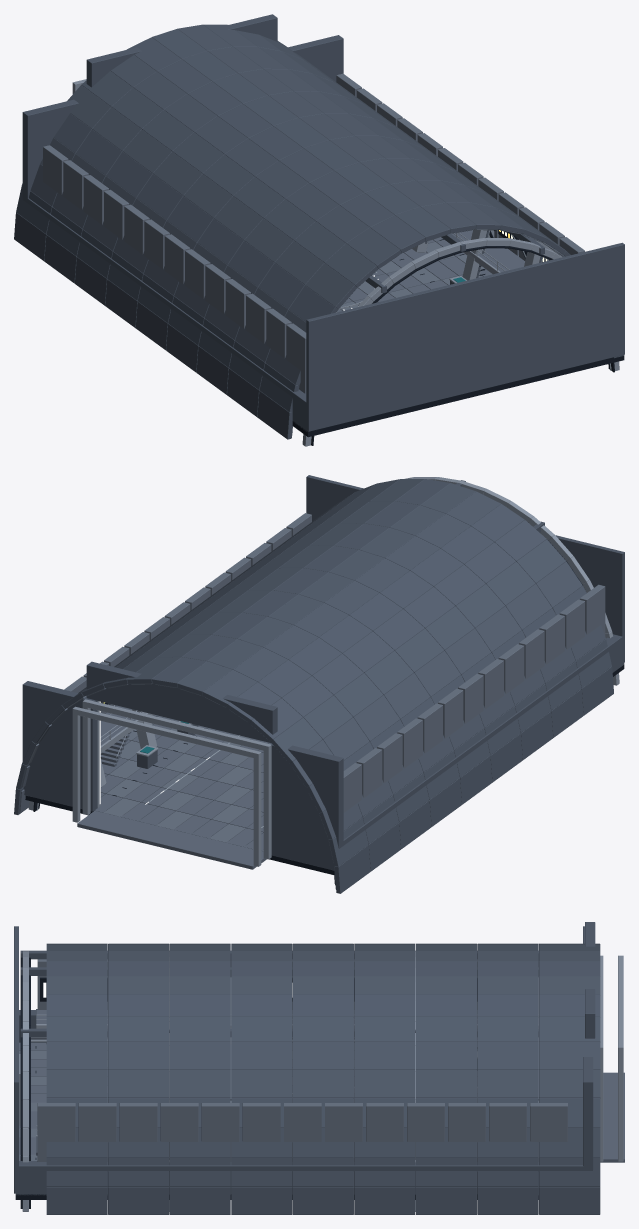
The model's file is citadel_hangar_interior.glb.
3 views of the same model, one above another, from view 1: azimuth 30°, elevation 25°; view 2: azimuth 150°, elevation 25°; view 3: azimuth 270°, elevation 25° (orthographic).
Parts seen in each view (by area): view 1: 01 | Faceted Presidium pressure shell, 09 | Launch aperture layered pressure jambs, 06 | Deep service walls and five district buttresses, 05 | Deck plates and turntable foundation, 03 | Concentric ring frames and keel, 07 | Elevated service galleries and stairs; view 2: 01 | Faceted Presidium pressure shell, 09 | Launch aperture layered pressure jambs, 06 | Deep service walls and five district buttresses, 05 | Deck plates and turntable foundation, 03 | Concentric ring frames and keel, 07 | Elevated service galleries and stairs, 02 | Staggered armor cassettes; view 3: 01 | Faceted Presidium pressure shell, 06 | Deep service walls and five district buttresses, 09 | Launch aperture layered pressure jambs, 03 | Concentric ring frames and keel, 05 | Deck plates and turntable foundation.
Part boxes in pixels (box(x1,y1,x2,y2)): 01 | Faceted Presidium pressure shell: box(14, 24, 570, 439); 09 | Launch aperture layered pressure jambs: box(22, 14, 624, 431); 06 | Deep service walls and five district buttresses: box(24, 73, 623, 431); 05 | Deck plates and turntable foundation: box(292, 237, 624, 437); 03 | Concentric ring frames and keel: box(302, 229, 619, 446); 07 | Elevated service galleries and stairs: box(451, 230, 524, 274); 01 | Faceted Presidium pressure shell: box(14, 479, 613, 893); 09 | Launch aperture layered pressure jambs: box(22, 475, 624, 870); 06 | Deep service walls and five district buttresses: box(26, 513, 624, 847); 05 | Deck plates and turntable foundation: box(25, 665, 624, 875); 03 | Concentric ring frames and keel: box(28, 477, 619, 885); 07 | Elevated service galleries and stairs: box(100, 705, 153, 766); 02 | Staggered armor cassettes: box(19, 683, 335, 888); 01 | Faceted Presidium pressure shell: box(46, 943, 600, 1214); 06 | Deep service walls and five district buttresses: box(15, 959, 589, 1195); 09 | Launch aperture layered pressure jambs: box(14, 922, 624, 1193); 03 | Concentric ring frames and keel: box(20, 950, 538, 1211); 05 | Deck plates and turntable foundation: box(15, 1042, 538, 1199).
Bounding box in the file's own units: 37.2 × 18.6 × 59.55.
